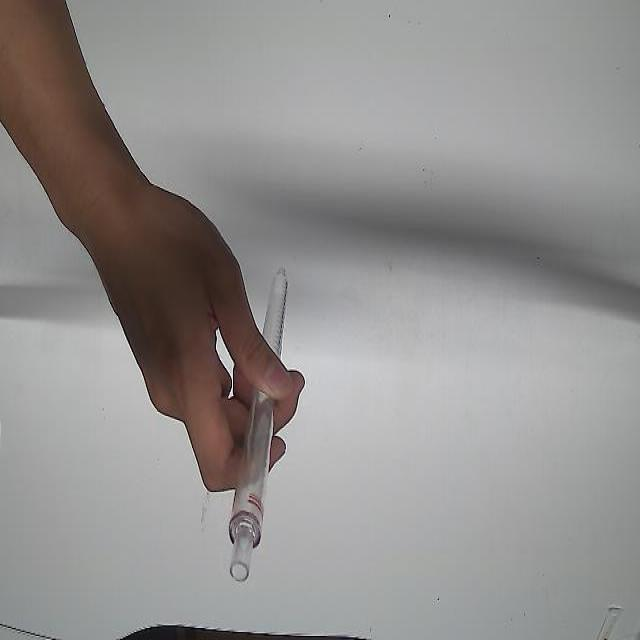Serelogical Pipet 25 mL: (227, 228, 290, 583)
